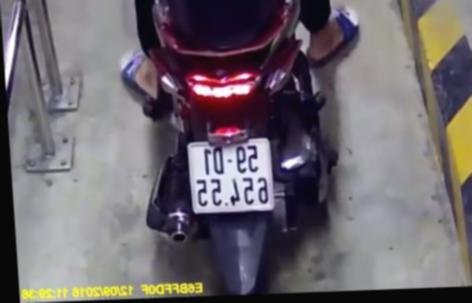License_Plate: (177, 131, 283, 222)
